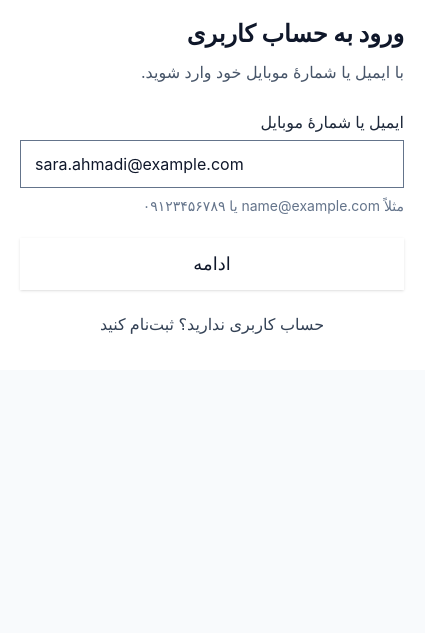
Test: focus after a failure › a wrong TOTP code: the first box; a dead first step: back to its field
This screenshot has width=425, height=633.
Step 1. Click the button "ادامه" → x=212, y=264, box [20,238,404,290]
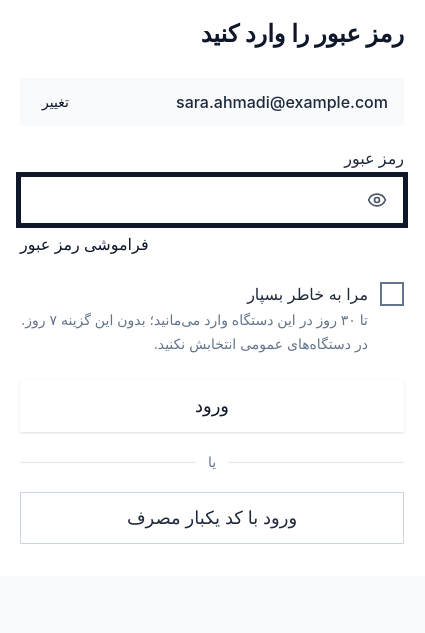
Step 2. Type "Firefly@1234" into the password field labelled "رمز عبور" → x=188, y=200, box [21,177,355,223]
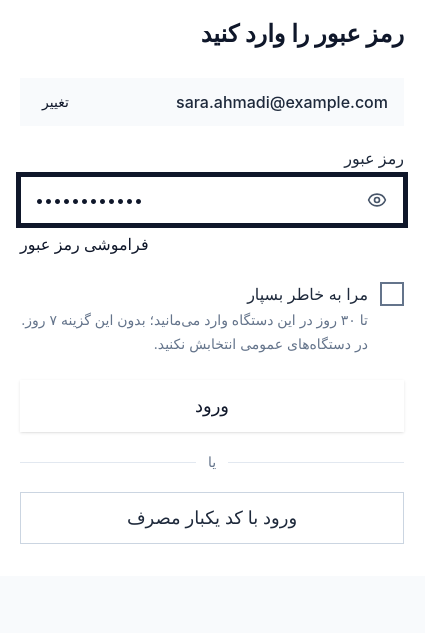
Step 3. Click the button "ورود" → x=212, y=406, box [20,380,404,432]
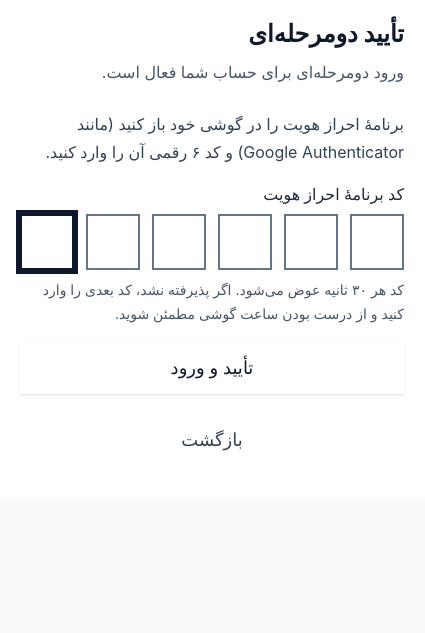
Step 4. Type keys "111111"
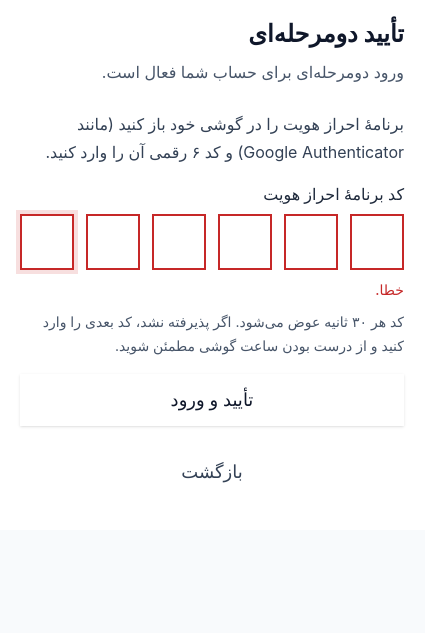
Step 5. Type keys "222222"
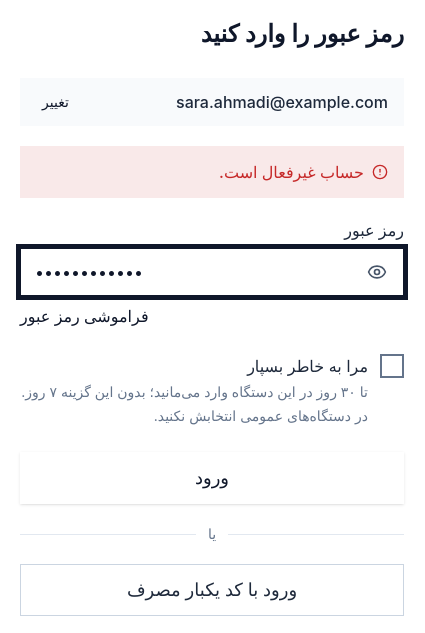
Check: the message reads "حساب غیرفعال است.", box [219,162,364,182]
